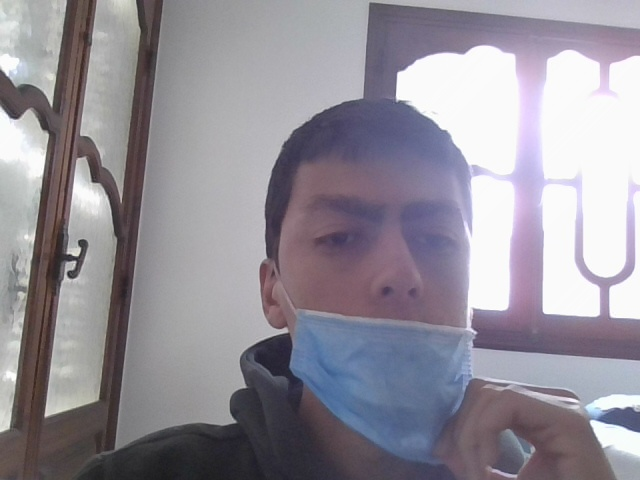mask_weared_incorrect: (274, 109, 490, 470)
